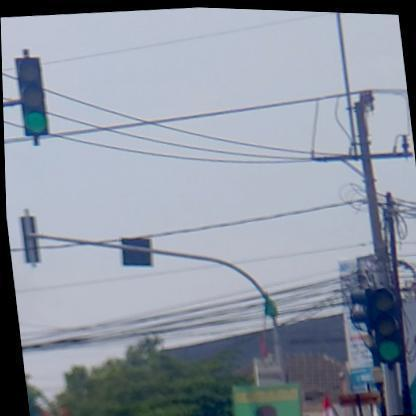green: (10, 52, 51, 139), (364, 280, 404, 362)
